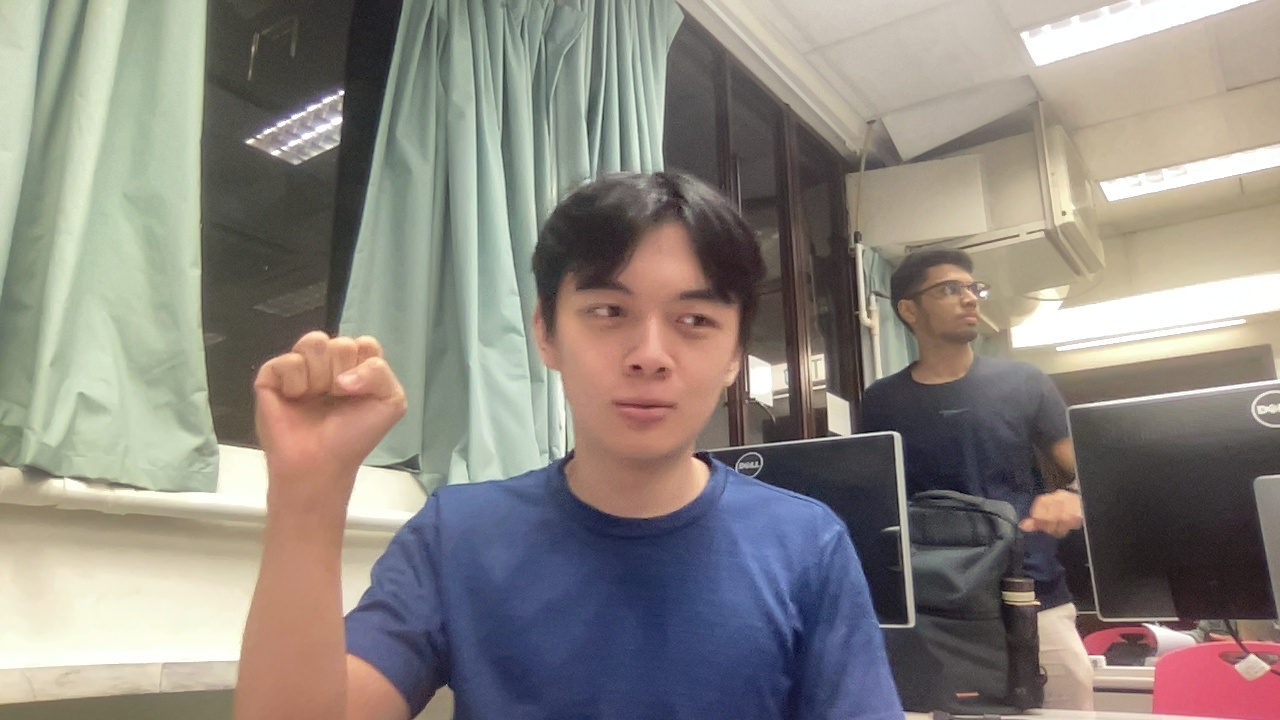yes: (215, 312, 455, 481)
